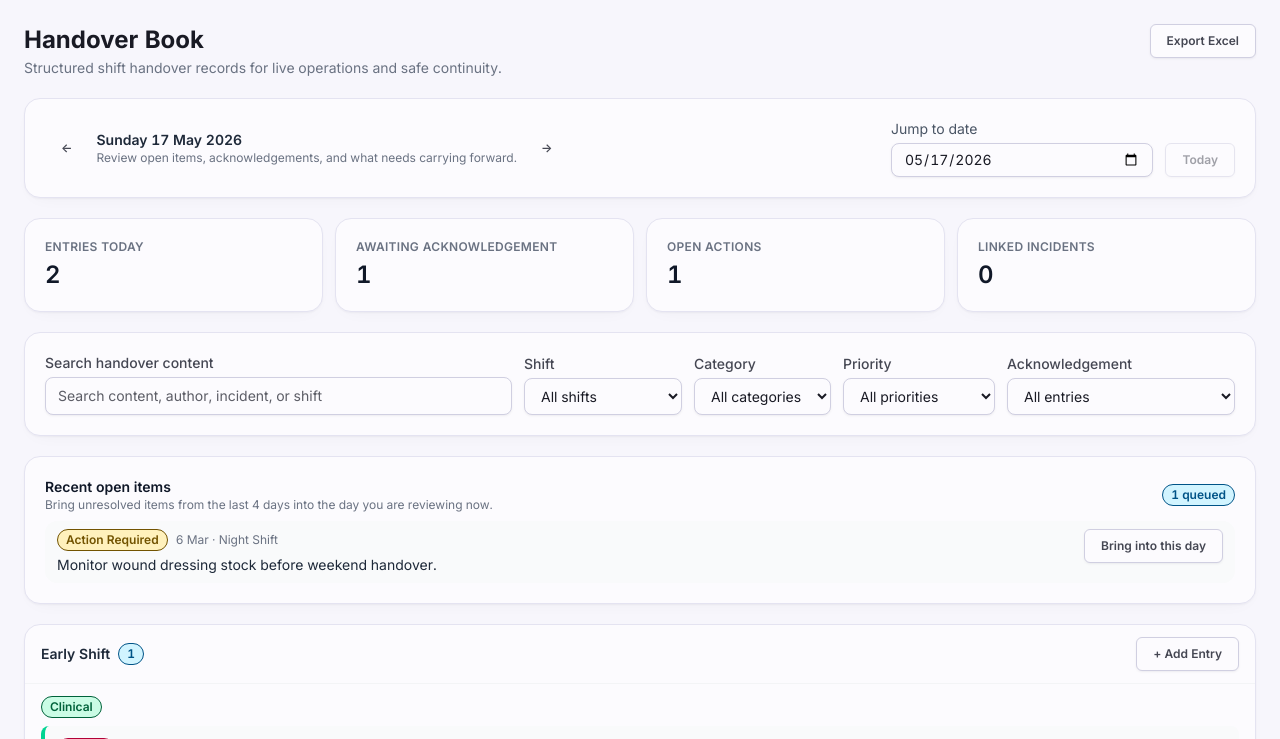
HandoverNotes › guards against double submit while a save is in flight
Click the button "+ Add Entry" at point(1188, 654), box [1136,637,1239,671]
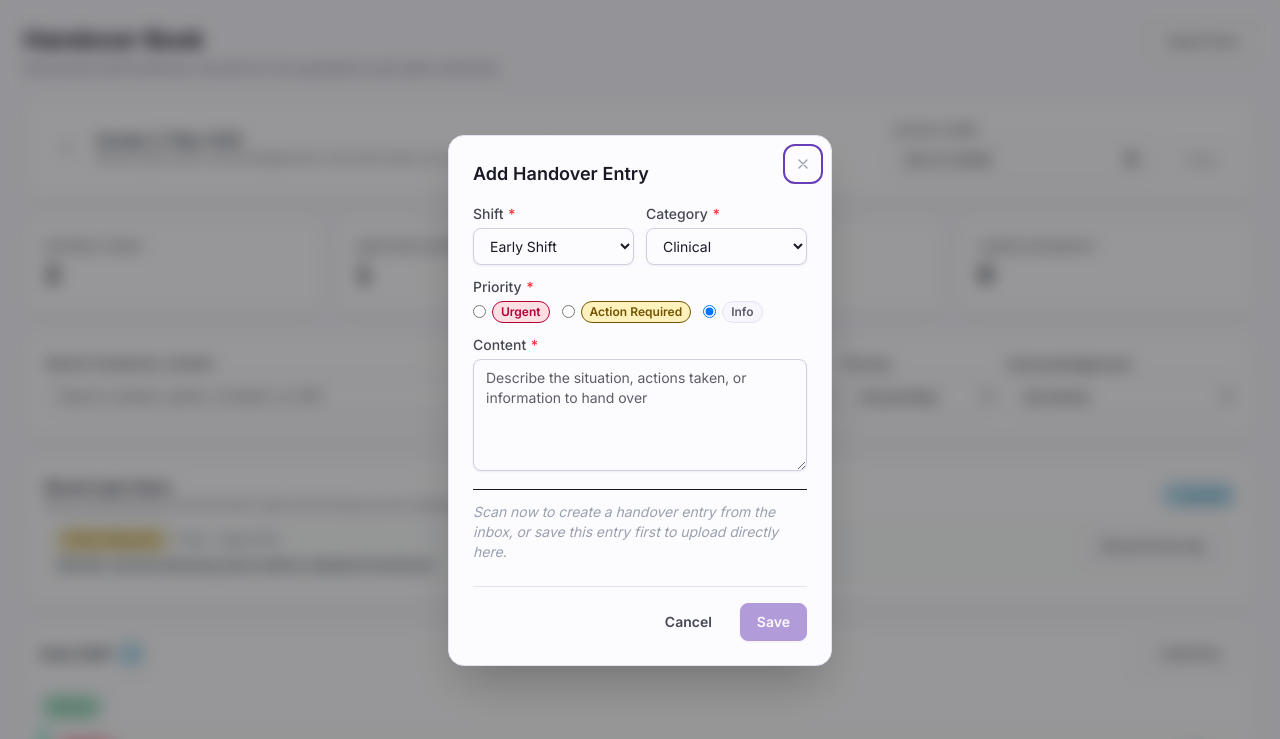
Type "Follow up with the district nurse before lunch." into the text box with placeholder "Describe the situation, actions taken, or information to hand over" at point(640, 414), box [473,358,807,470]
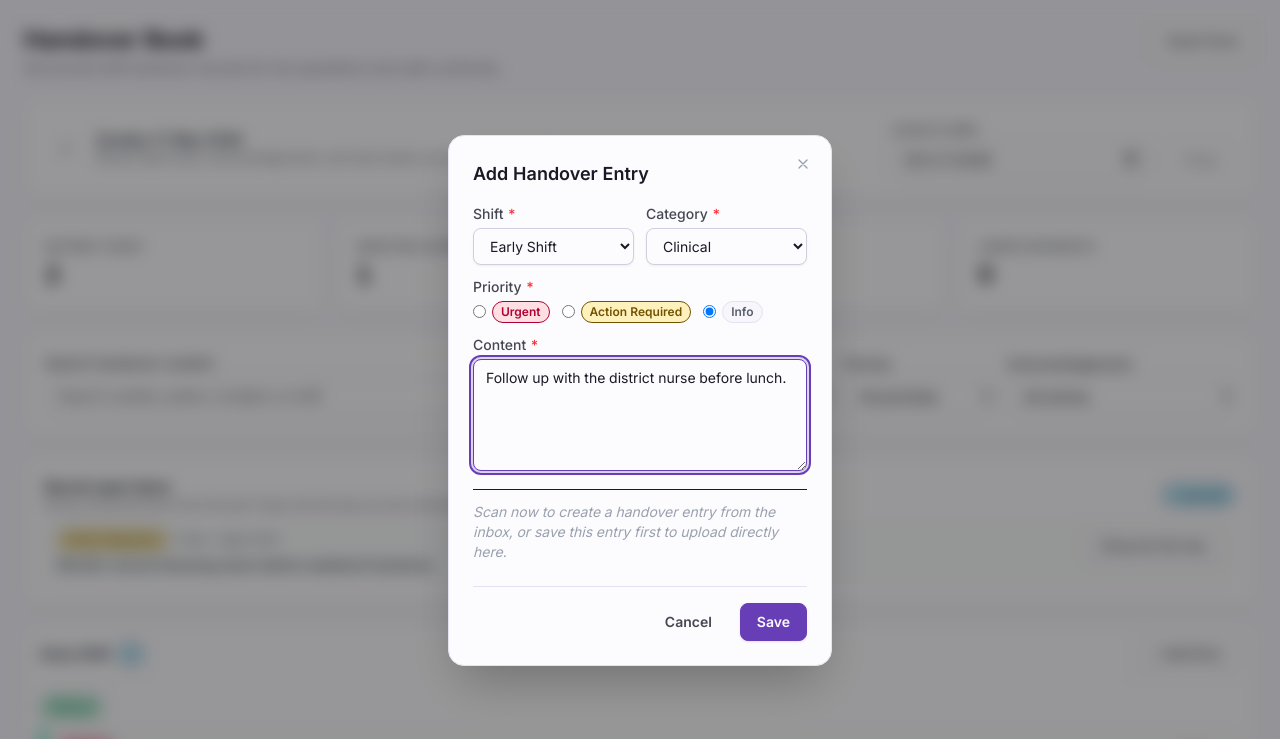
Double-click the button "Save" at point(773, 622), box [740,602,807,640]
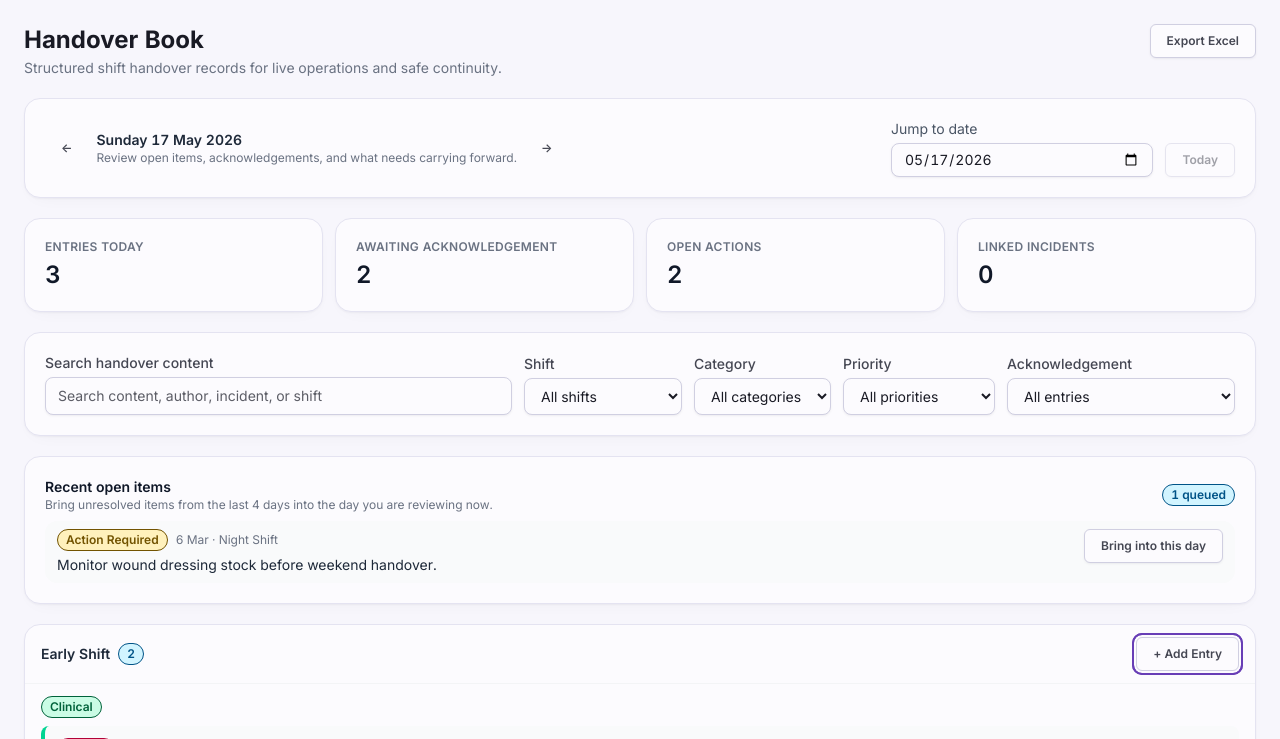
Expected: the heading "Add Handover Entry" is gone
